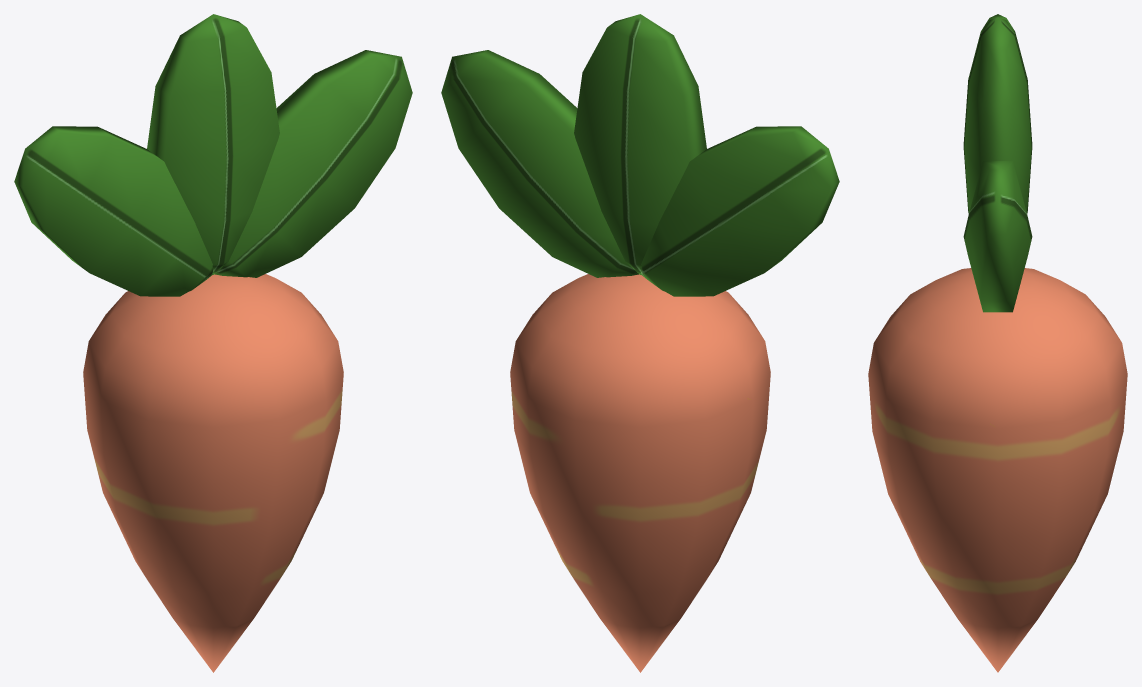
File: Plant.fbx
3 views of the same model, side by side, from view 1: azimuth 30°, elevation 25°; view 2: azimuth 150°, elevation 25°; view 3: azimuth 270°, elevation 25° (orthographic).
Parts seen in each view (by area): view 1: Sphere, Sphere.001; view 2: Sphere, Sphere.001; view 3: Sphere, Sphere.001.
Boxes of the visible parts, bbox=[...] form: Sphere: bbox=[83, 274, 343, 672]; Sphere.001: bbox=[14, 14, 412, 296]; Sphere: bbox=[510, 274, 770, 672]; Sphere.001: bbox=[441, 14, 839, 296]; Sphere: bbox=[868, 268, 1127, 672]; Sphere.001: bbox=[963, 14, 1032, 312].
Bounding box in the file's own units: 313 × 505 × 181.
2 materials, 2 textured.
